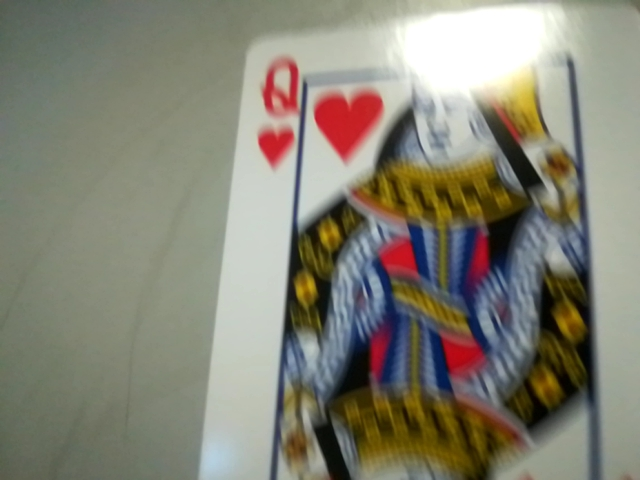hx q: (246, 52, 308, 171)
